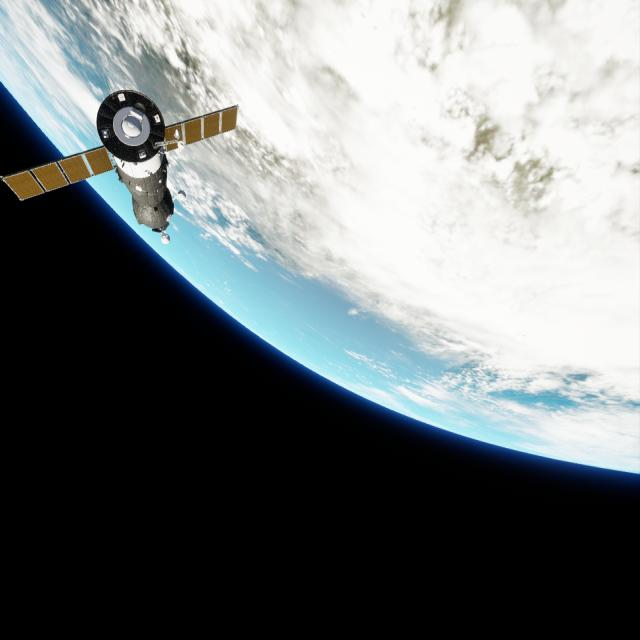Satellites revolving around earth: (2, 85, 240, 241)
